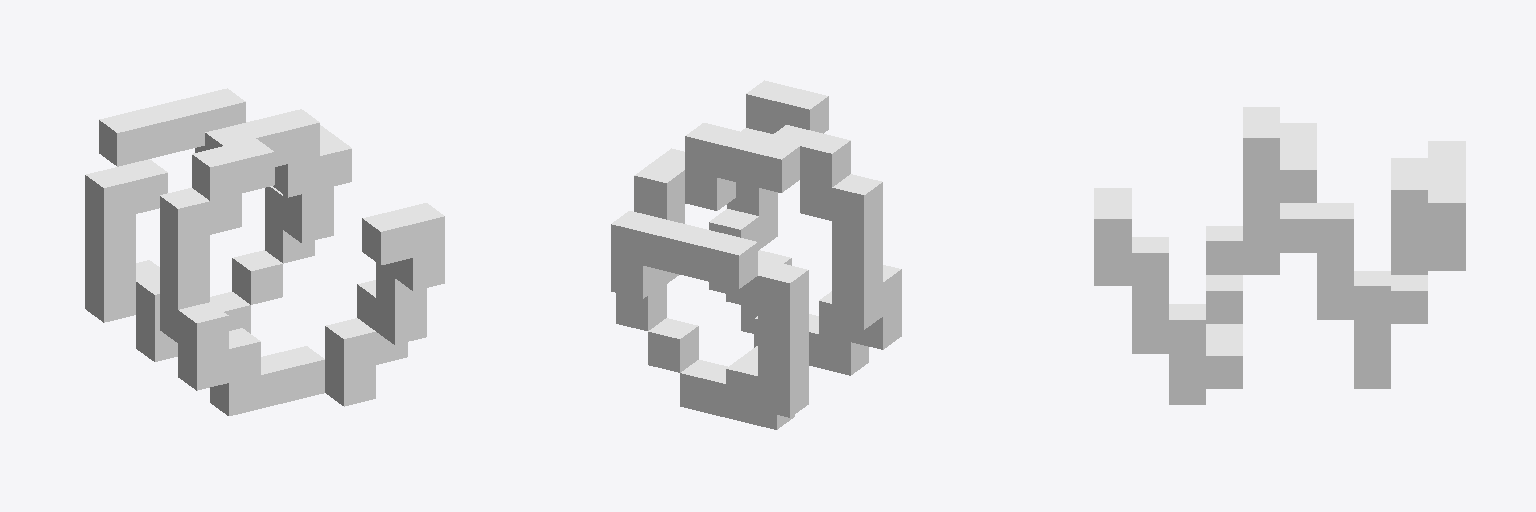
Rendered from SH_Enviorment-26-Barbed_Wire_A.obj.
3 views of the same model, side by side, from view 1: azimuth 30°, elevation 25°; view 2: azimuth 150°, elevation 25°; view 3: azimuth 270°, elevation 25° (orthographic).
Visible parts, largest first — view 1: Barbed_Wire_A; view 2: Barbed_Wire_A; view 3: Barbed_Wire_A.
Part boxes in pixels (x1,y1,x2,y2): Barbed_Wire_A: (85, 88, 444, 415); Barbed_Wire_A: (611, 80, 901, 429); Barbed_Wire_A: (1094, 107, 1465, 404).
Size of the model in its own units: 0.6 by 0.7 by 1.